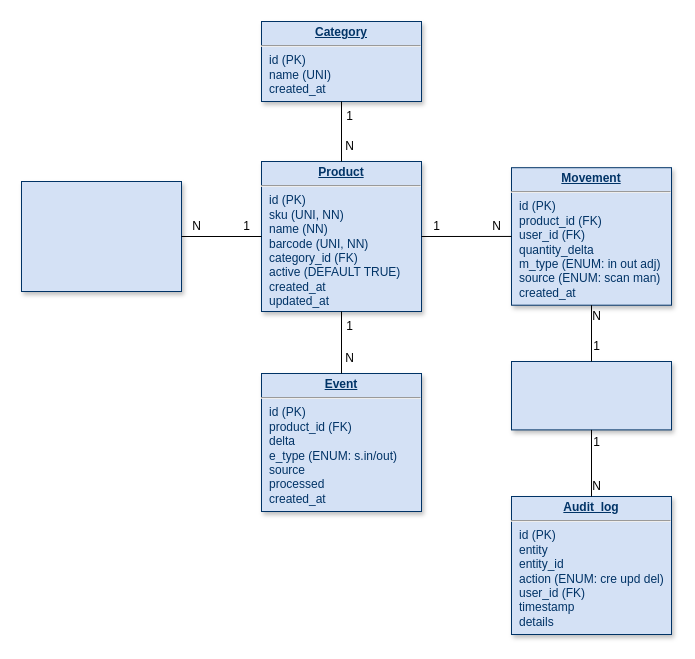
This 695x659 diagram has some shape labels left out. Each missing label, with the centre of its shape:
Stock id (PK) product_id (FK) location quantity updated_at: (102,237)
User id (PK) username (UNI): (592,396)
